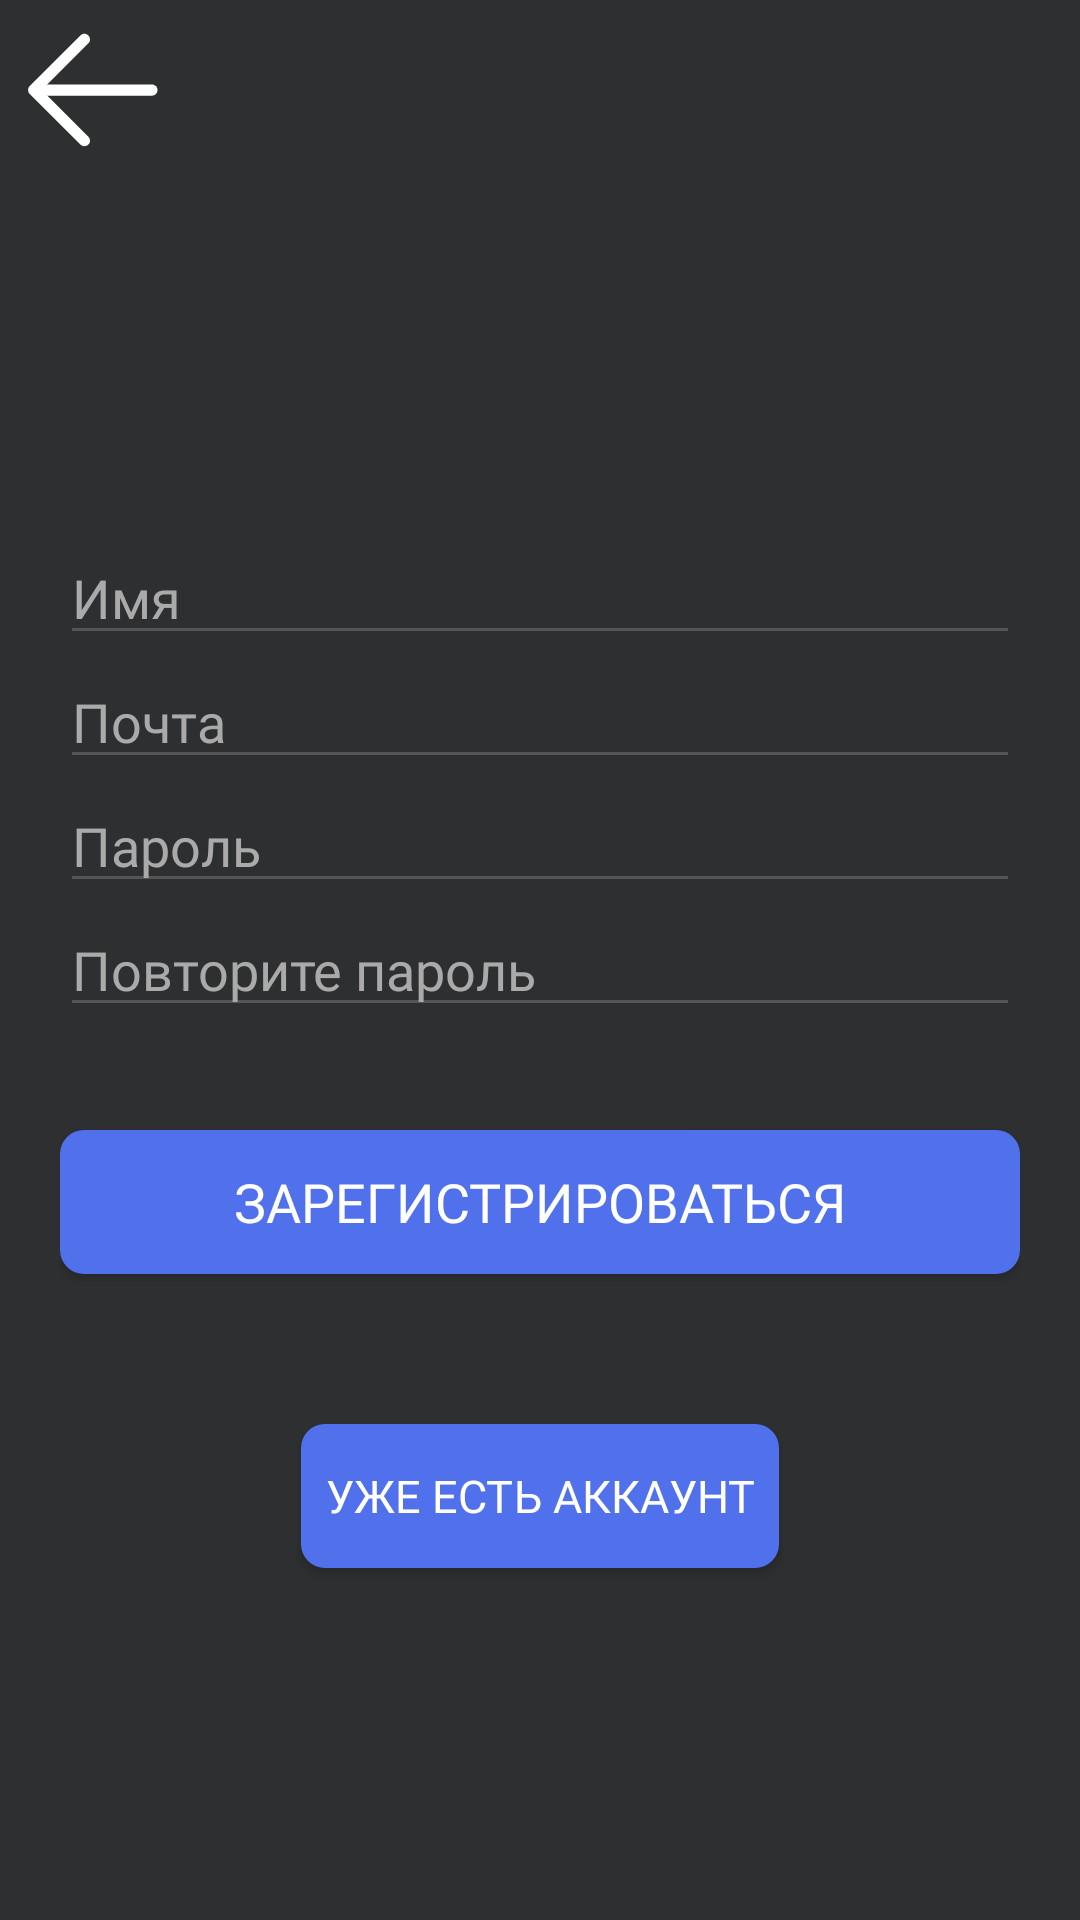

Screen size 1080×1920. Icon name, then its center in pixels as [x,y]:
back: [93,90]
